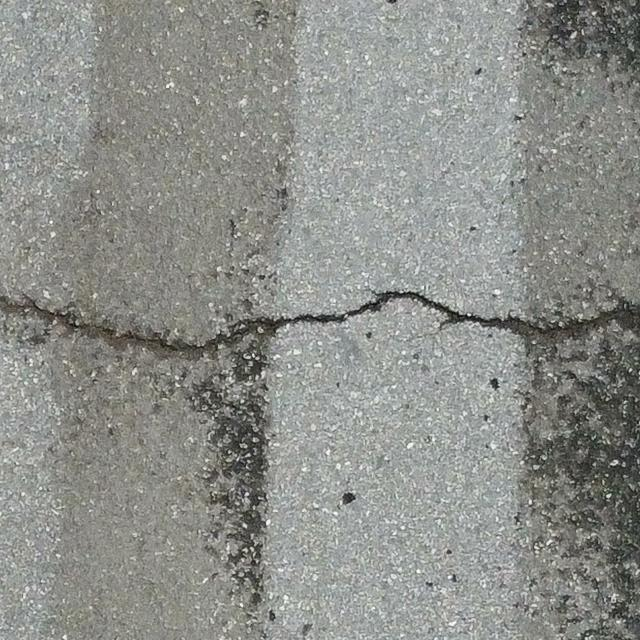TransverseCrack: (1, 289, 640, 345)
